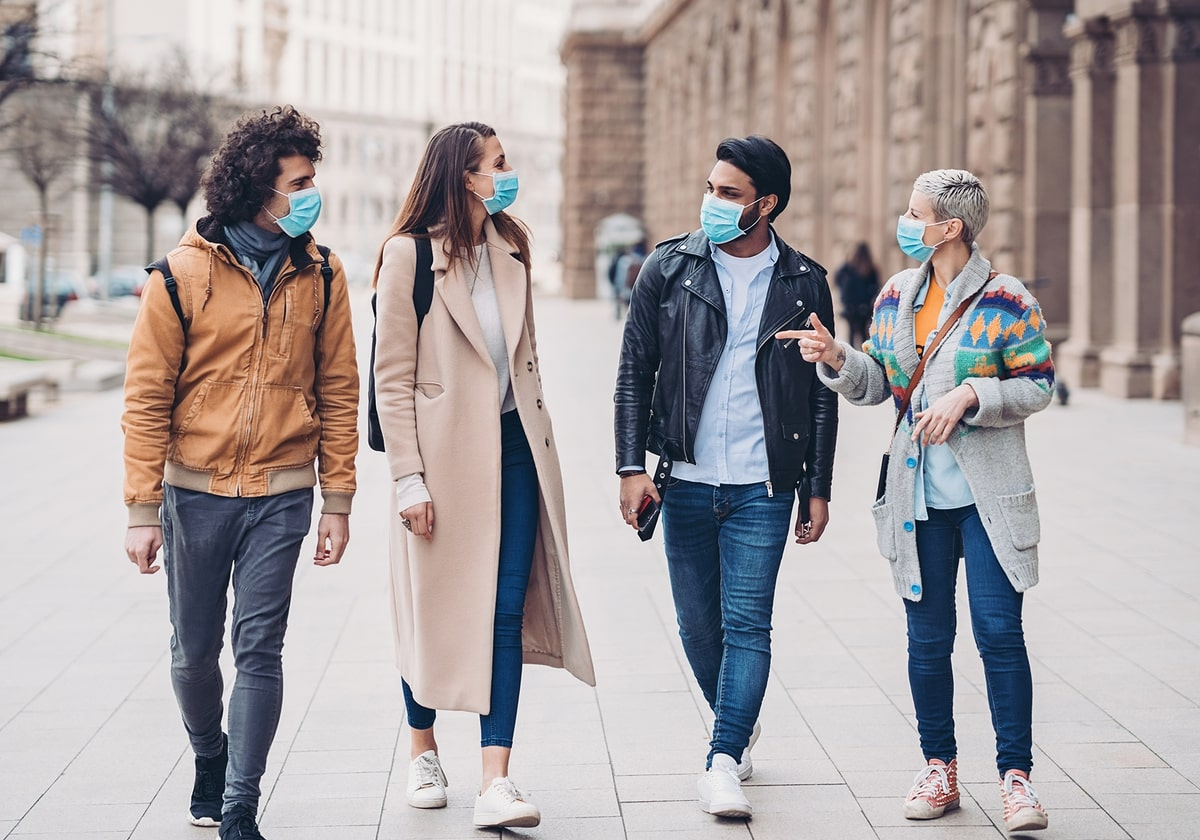with_mask: (700, 173, 750, 242), (279, 164, 324, 238), (895, 197, 940, 260), (482, 142, 520, 216)
